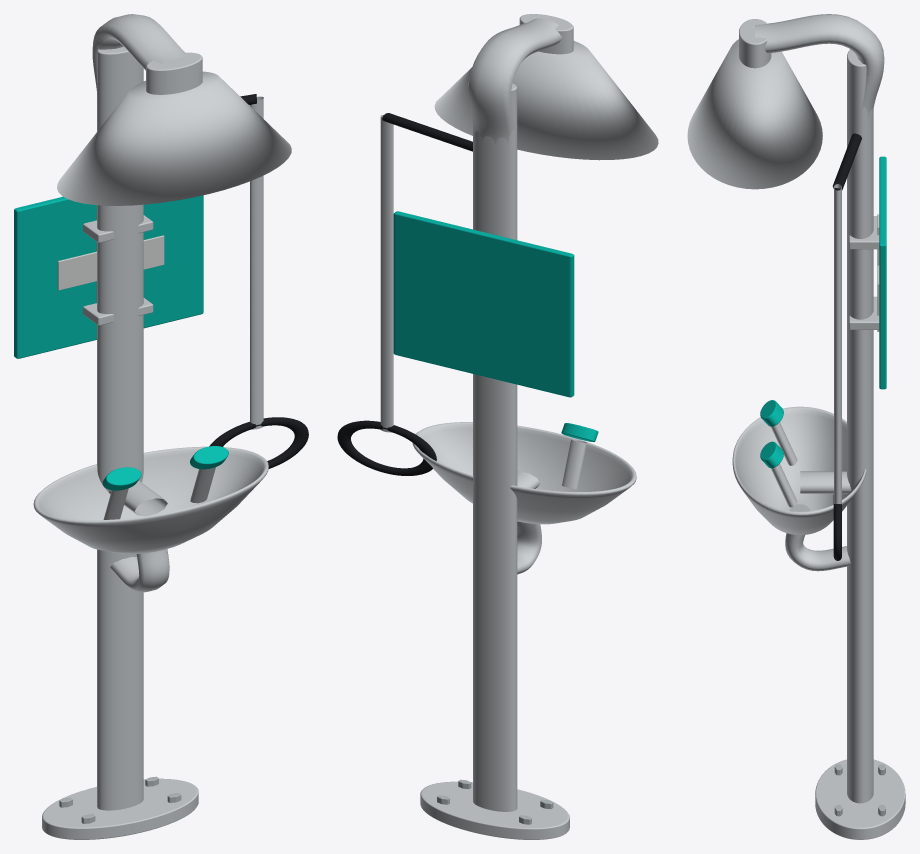
Rendered from safety-shower.glb.
3 renders of one model, left to right at view 1: azimuth 30°, elevation 25°; view 2: azimuth 150°, elevation 25°; view 3: azimuth 270°, elevation 25°, orthographic. The views are drawn at different scales.
Visible parts, largest first — view 1: Runtime batch - Studio-readable satin stainless steel, Runtime batch - LabSpace instrument teal, Runtime batch - Porcelain white instrument enamel, Runtime batch - Matte black coated handle; view 2: Runtime batch - Studio-readable satin stainless steel, Runtime batch - LabSpace instrument teal, Runtime batch - Matte black coated handle; view 3: Runtime batch - Studio-readable satin stainless steel, Runtime batch - LabSpace instrument teal, Runtime batch - Matte black coated handle, Runtime batch - Zinc plated hardware.
Part boxes in pixels (box(x1,y1,x2,y2)): Runtime batch - Studio-readable satin stainless steel: box(33, 14, 291, 839); Runtime batch - LabSpace instrument teal: box(14, 195, 228, 490); Runtime batch - Porcelain white instrument enamel: box(57, 213, 164, 302); Runtime batch - Matte black coated handle: box(209, 94, 308, 468); Runtime batch - Studio-readable satin stainless steel: box(380, 14, 658, 839); Runtime batch - LabSpace instrument teal: box(393, 211, 598, 441); Runtime batch - Matte black coated handle: box(337, 113, 472, 475); Runtime batch - Studio-readable satin stainless steel: box(687, 14, 905, 839); Runtime batch - LabSpace instrument teal: box(760, 156, 886, 468); Runtime batch - Matte black coated handle: box(832, 133, 861, 560); Runtime batch - Zinc plated hardware: box(790, 504, 885, 816).
Size of the model in its own units: 0.9 by 2.4 by 0.6033.
